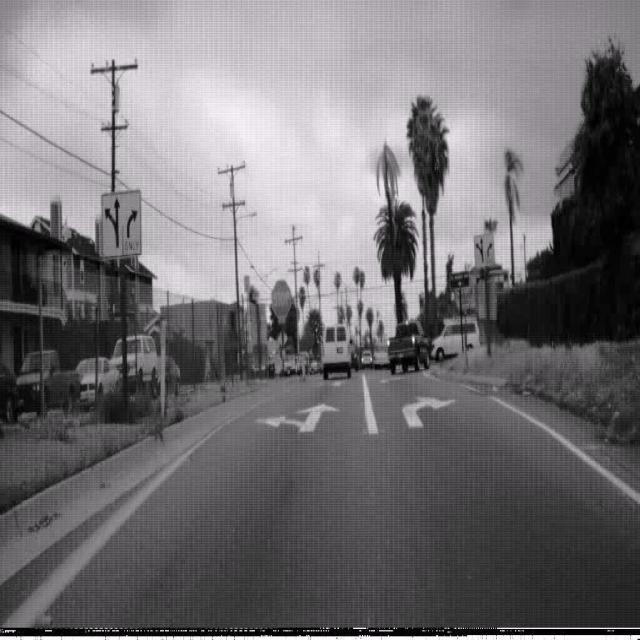stop_sign: (271, 278, 291, 318)
